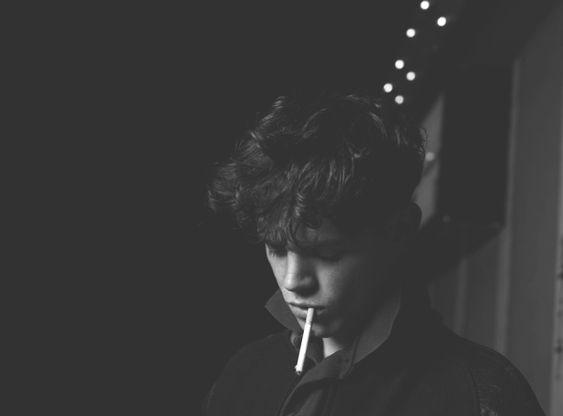cigarette: (295, 307, 315, 375)
